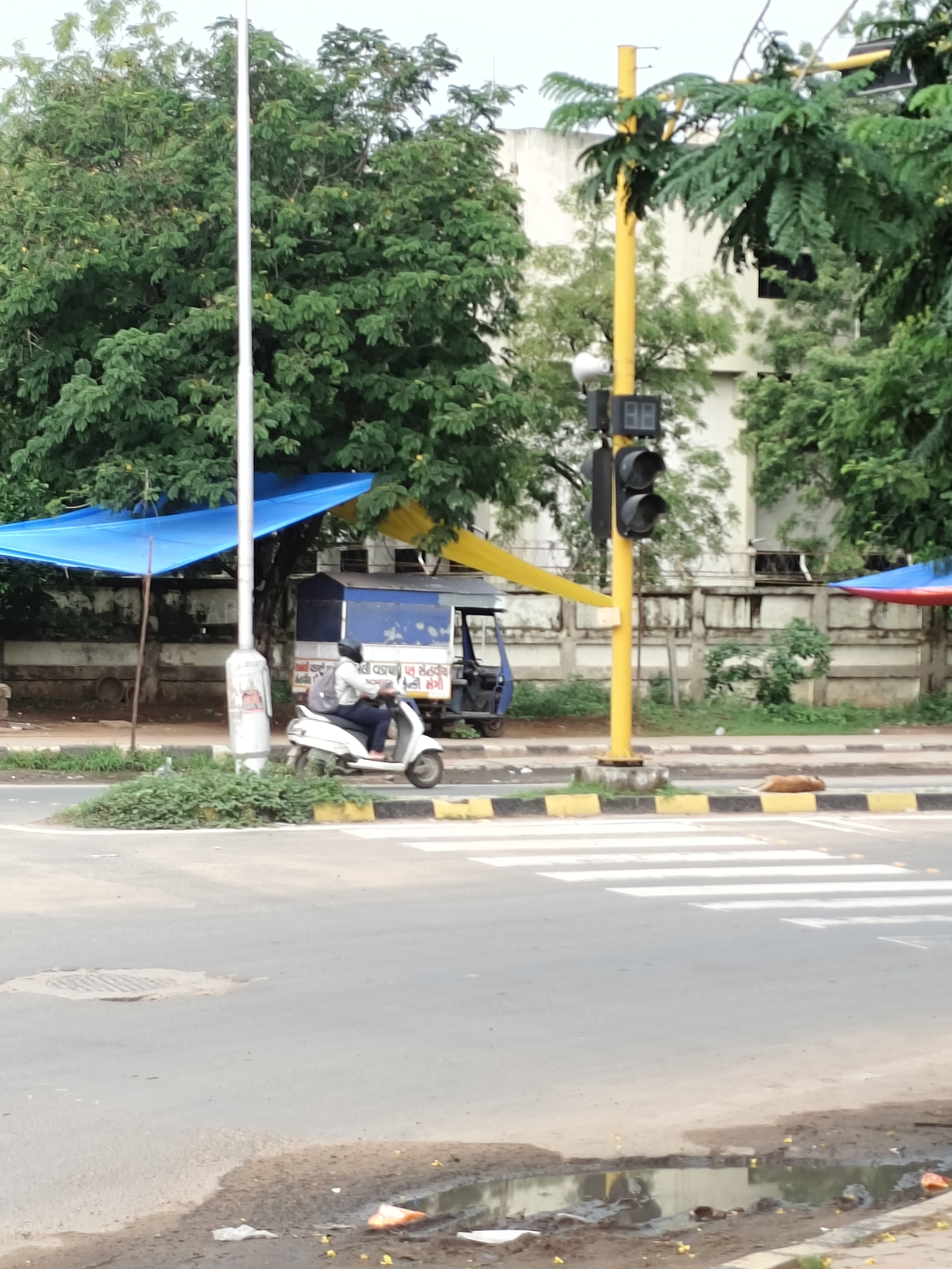BikeWithRider: (275, 634, 453, 795)
Helmet: (330, 635, 370, 669)
